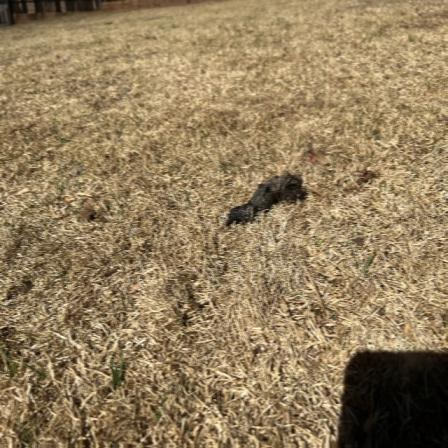dog-poop: (224, 167, 304, 226)
